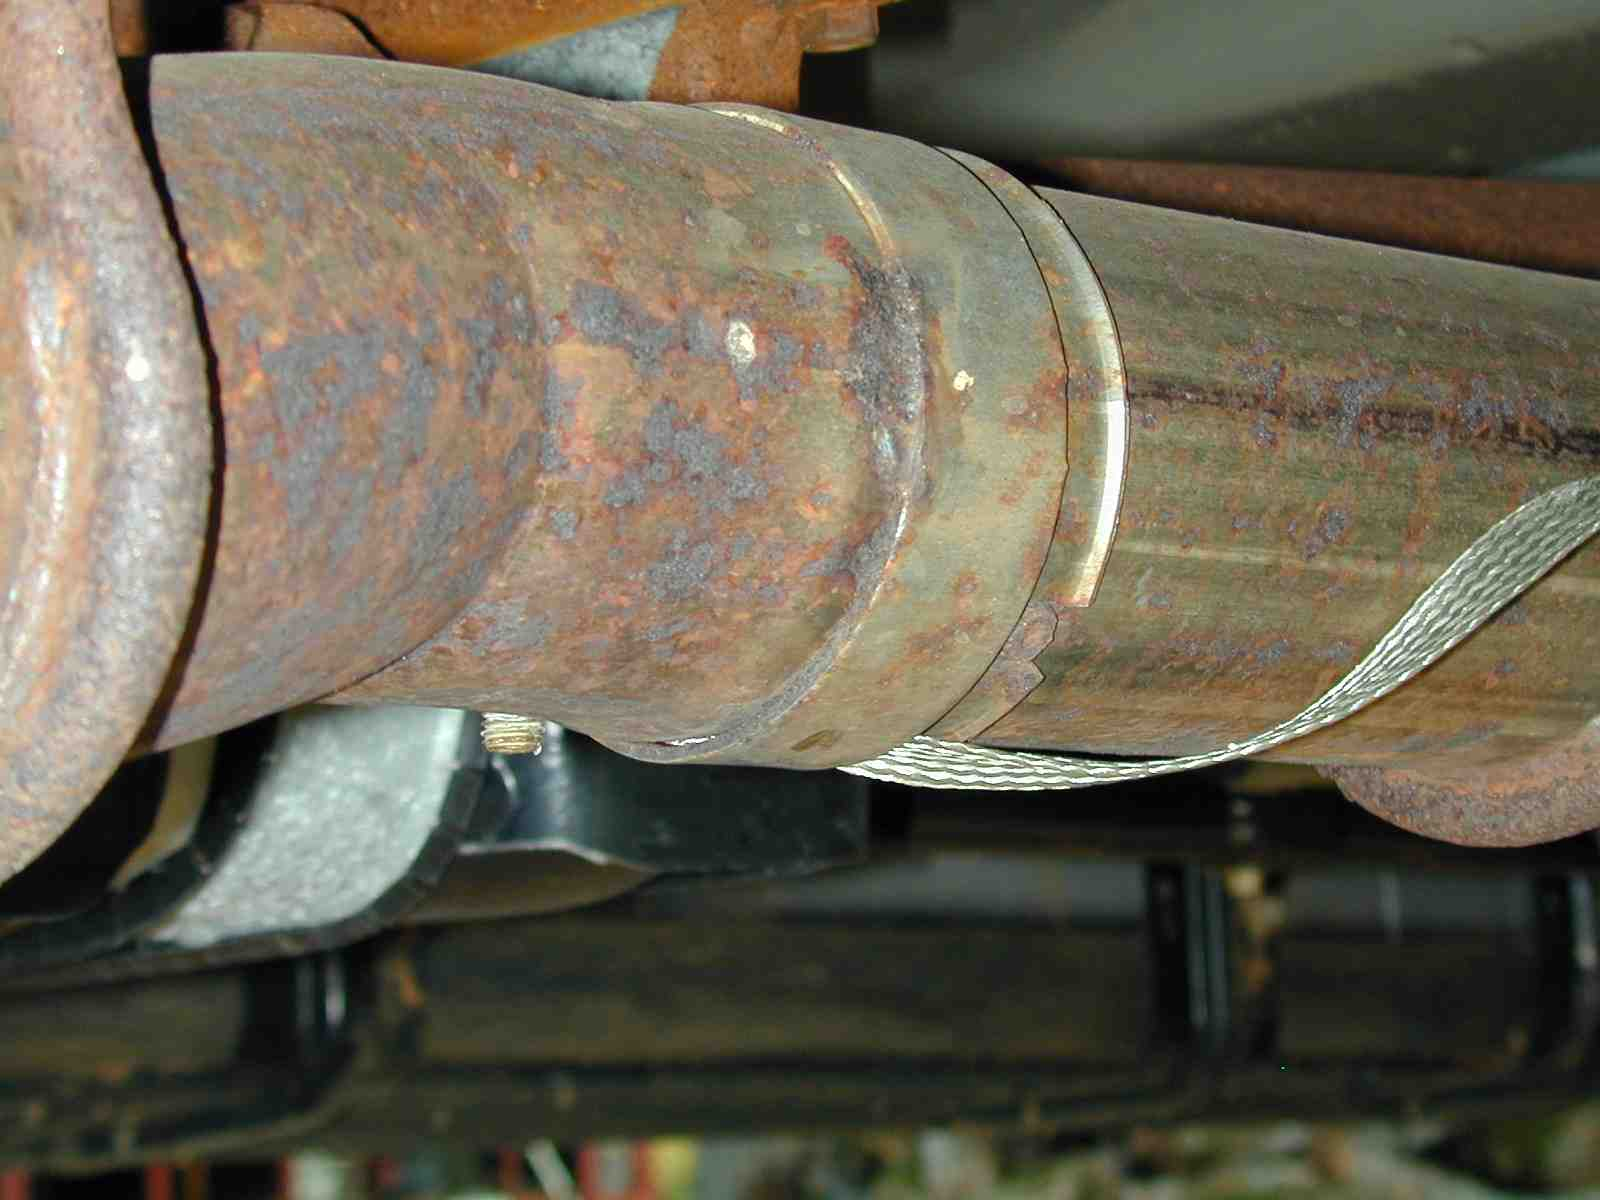Low: (144, 48, 1119, 758), (1107, 303, 1587, 710)
